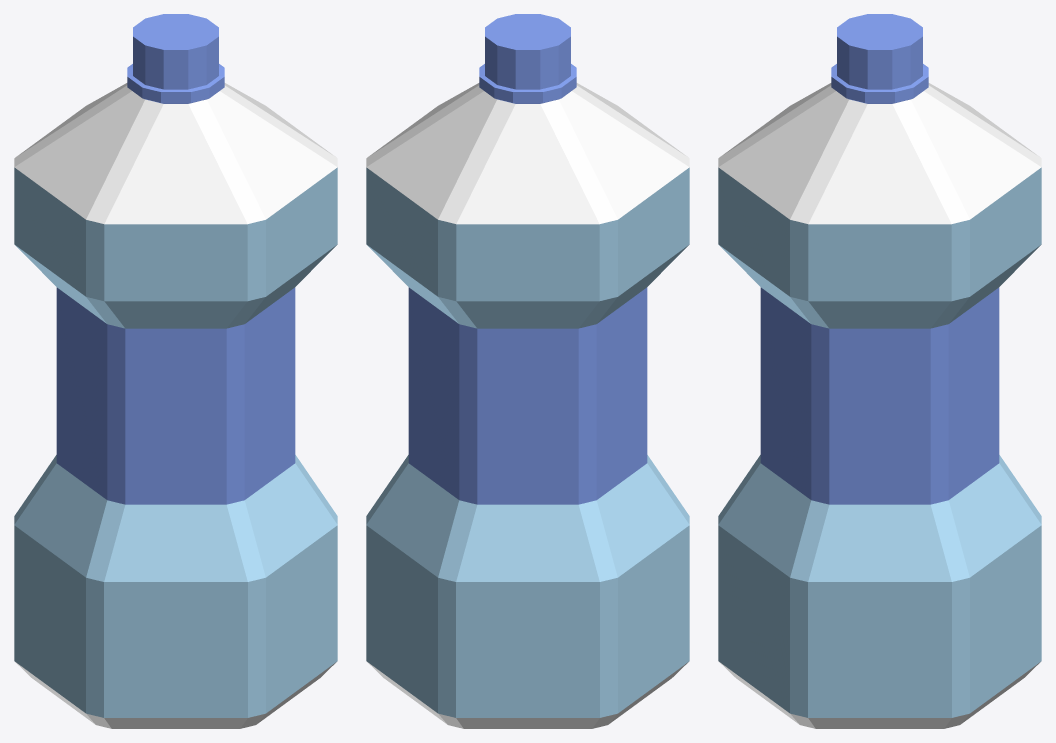
Rendered from Water.fbx.
3 views of the same model, side by side, from view 1: azimuth 30°, elevation 25°; view 2: azimuth 150°, elevation 25°; view 3: azimuth 270°, elevation 25° (orthographic).
Visible parts, largest first — view 1: Water; view 2: Water; view 3: Water.
Part boxes in pixels (bbox=[...]): Water: bbox=[14, 14, 337, 728]; Water: bbox=[366, 14, 689, 728]; Water: bbox=[718, 14, 1041, 728].
Size of the model in its own units: 0.1143 by 0.1273 by 0.2788.
